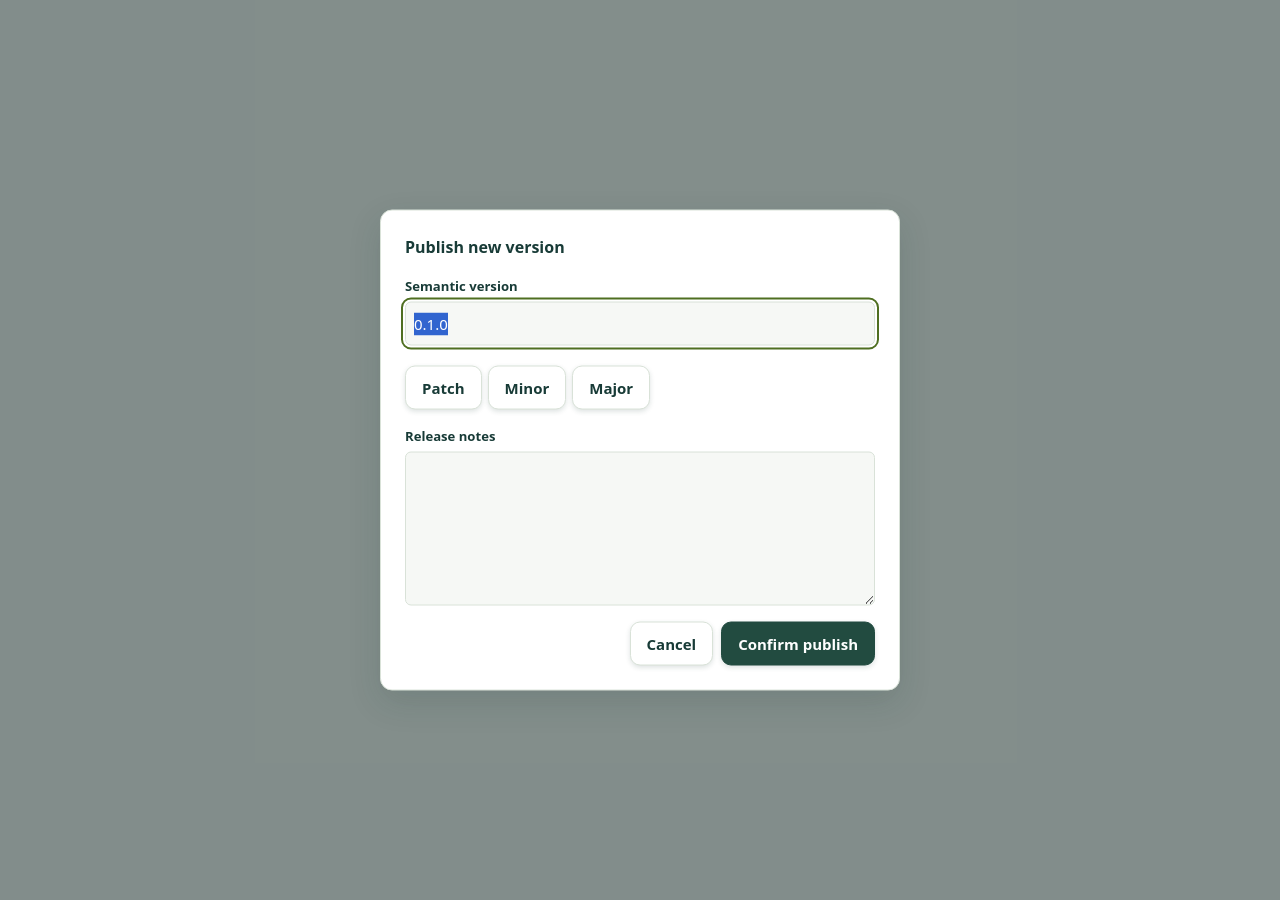
it: PublishDialog › PATCH / MINOR / MAJOR buttons bump the semver input
The width and height of the screenshot is (1280, 900).
Click the button with test id "publish-dialog-bump-patch": (443, 388) x1=405 y1=366 x2=482 y2=410
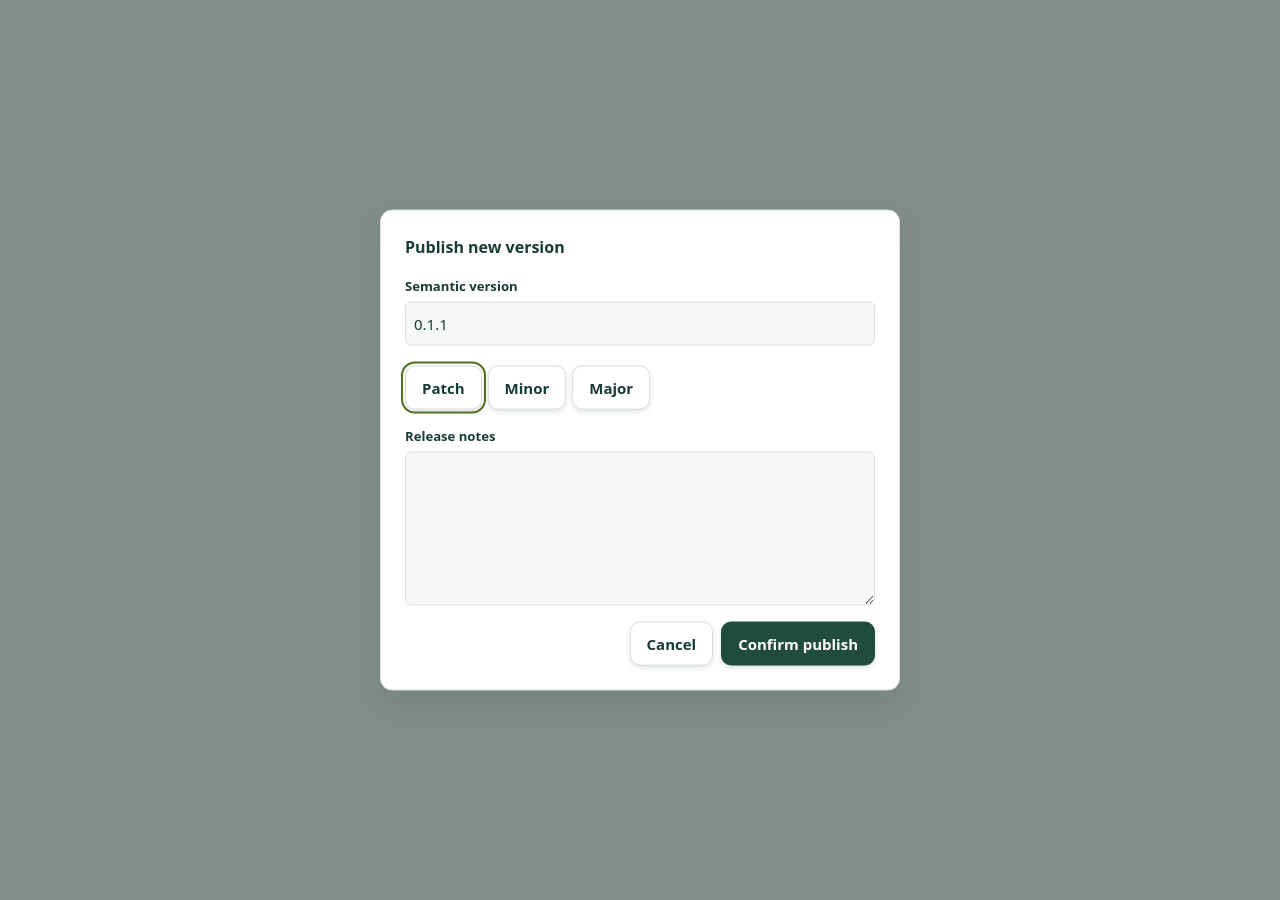
expect the field with test id "publish-dialog-semver" holds "0.1.1": met, box x1=405 y1=302 x2=875 y2=346
Click the button with test id "publish-dialog-bump-minor": (527, 388) x1=488 y1=366 x2=566 y2=410
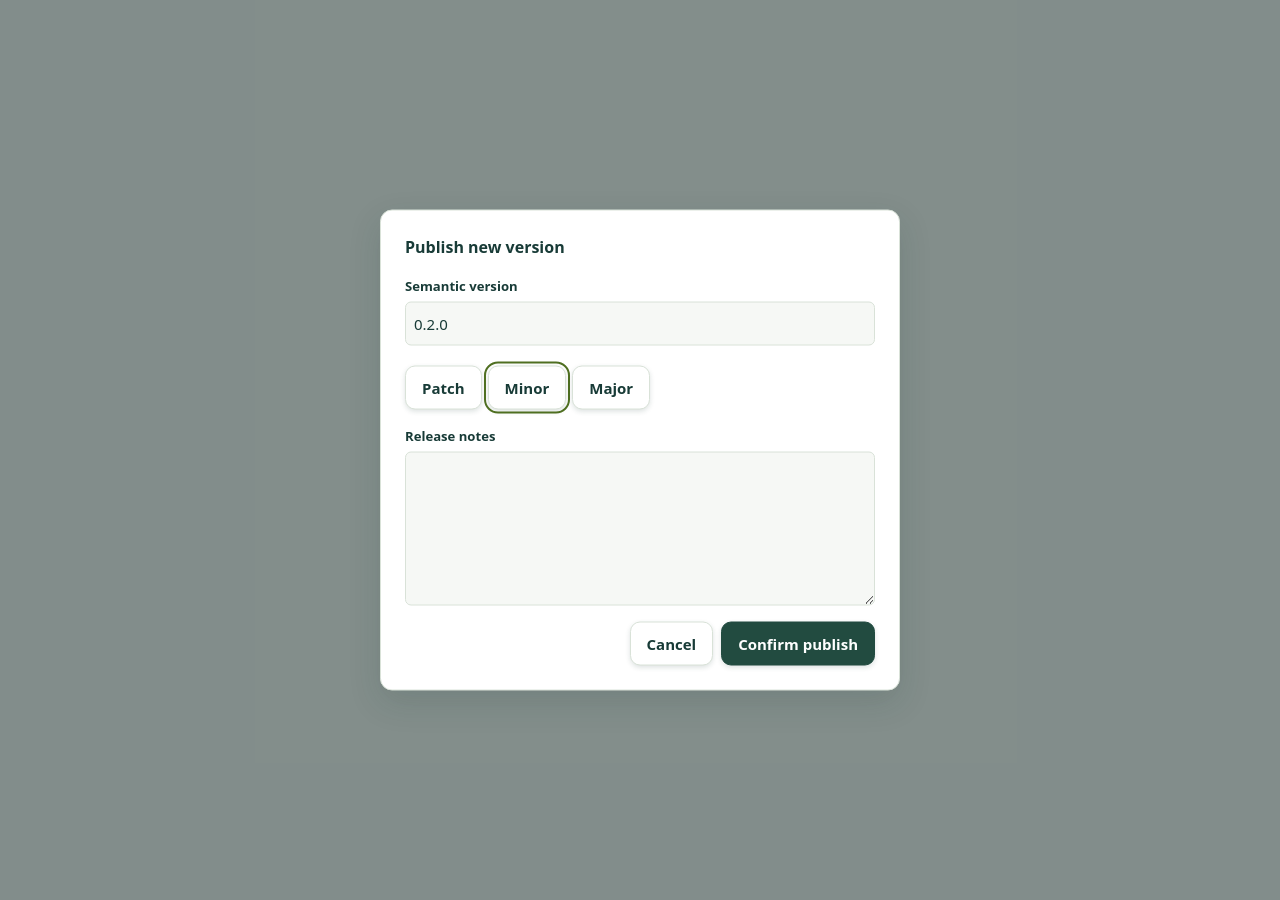
expect the field with test id "publish-dialog-semver" holds "0.2.0": met, box x1=405 y1=302 x2=875 y2=346
Click the button with test id "publish-dialog-bump-major": (611, 388) x1=572 y1=366 x2=650 y2=410
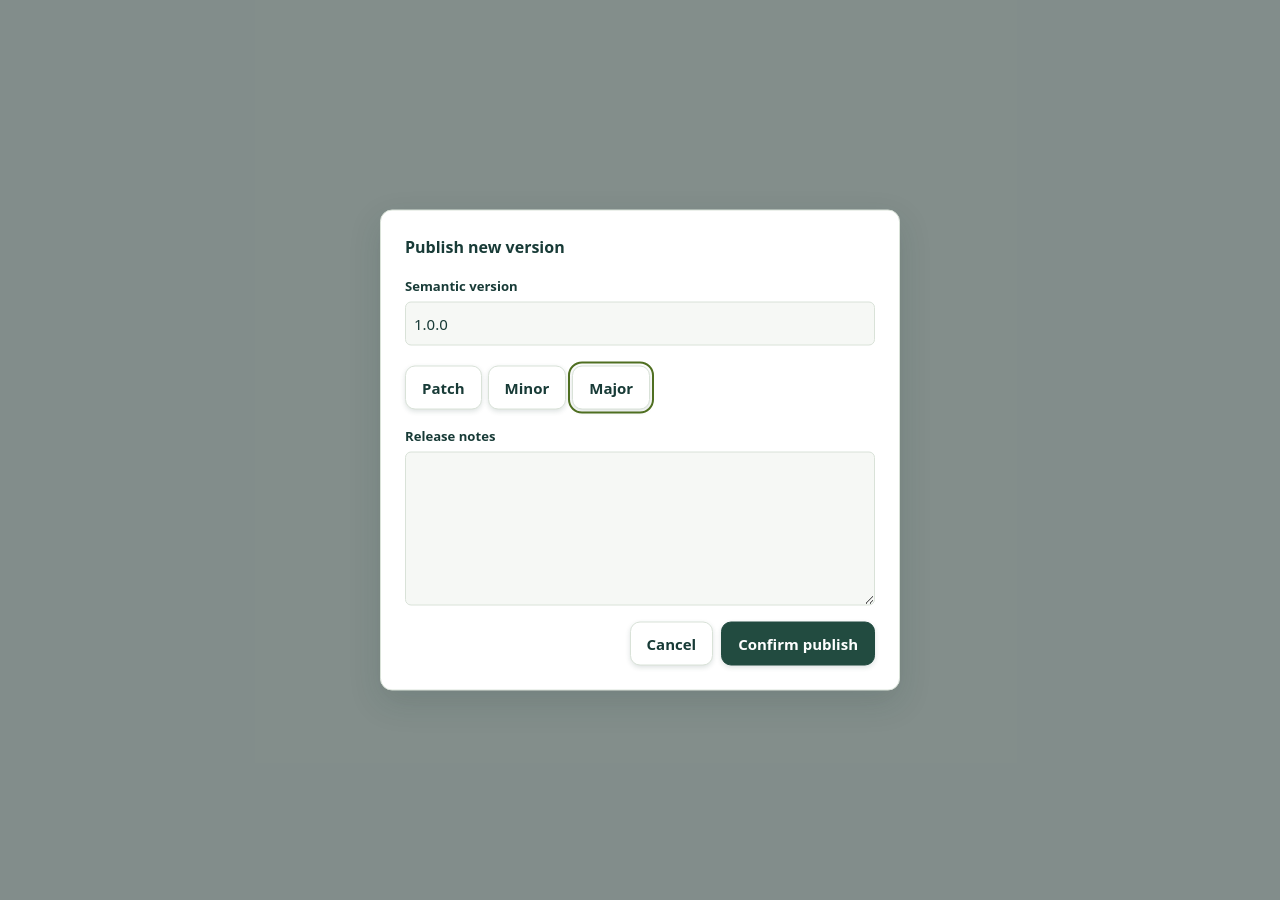
expect the field with test id "publish-dialog-semver" holds "1.0.0": met, box x1=405 y1=302 x2=875 y2=346
